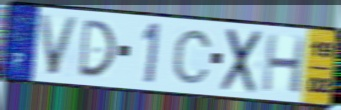1: (140, 21, 162, 87)
C: (171, 28, 214, 87)
D: (76, 18, 118, 79)
H: (260, 32, 308, 96)
V: (37, 12, 82, 78)
X: (218, 26, 265, 96)
